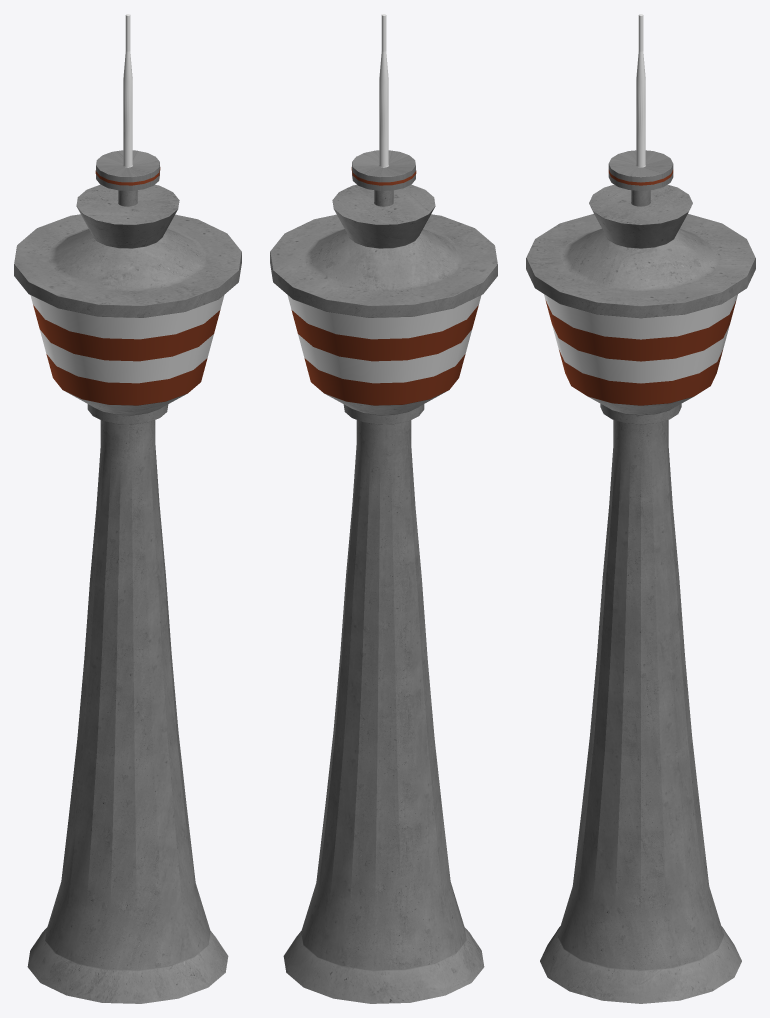
Rendered from Calgary_Tower.fbx.
3 renders of one model, left to right at view 1: azimuth 30°, elevation 25°; view 2: azimuth 150°, elevation 25°; view 3: azimuth 270°, elevation 25°, orthographic.
Parts seen in each view (by area): view 1: tower_base, tower_body, tower_antenna; view 2: tower_base, tower_body, tower_antenna; view 3: tower_base, tower_body, tower_antenna.
Part boxes in pixels (x1,y1,x2,y2): tower_base: (27,420,228,1003); tower_body: (14,184,241,424); tower_antenna: (95,14,160,190); tower_base: (283,420,484,1003); tower_body: (270,184,497,424); tower_antenna: (351,14,416,190); tower_base: (540,420,741,1003); tower_body: (526,184,755,424); tower_antenna: (608,14,673,190).
Bounding box in the file's own units: 9.36 × 42.58 × 9.36.
Materials: 5 (1 with a texture image).
